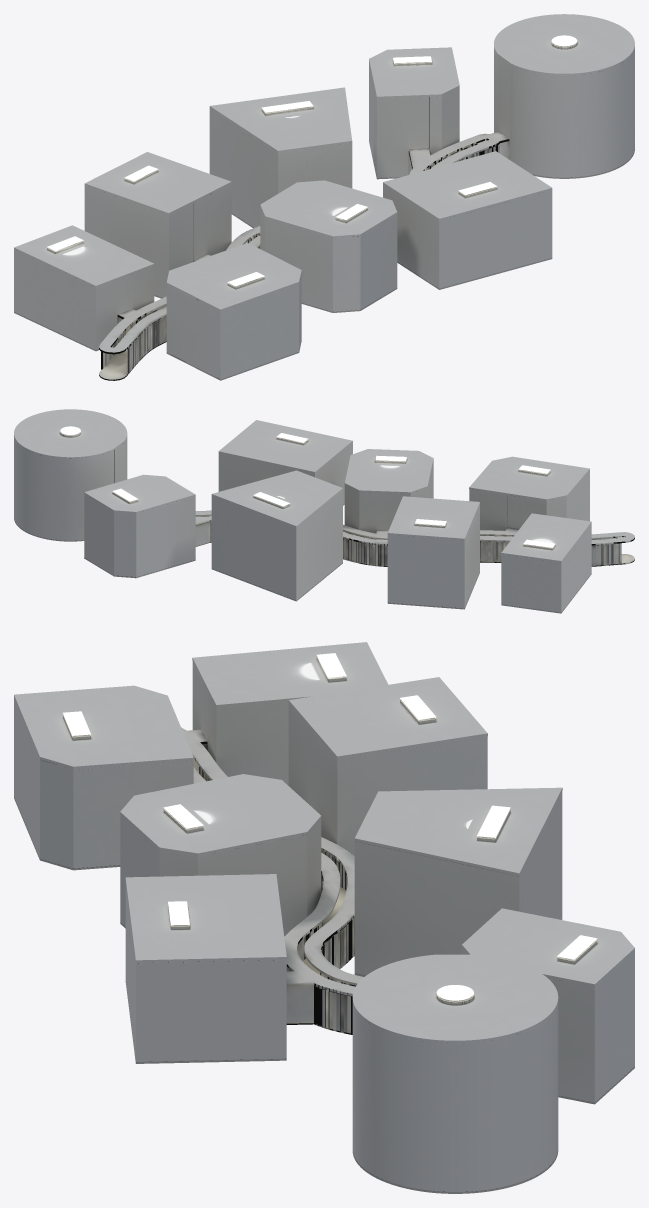
Rendered from gallery-textured.glb.
The picture shows the model from 3 angles, top to bottom: view 1: azimuth 30°, elevation 25°; view 2: azimuth 150°, elevation 25°; view 3: azimuth 270°, elevation 25°; orthographic projection. The views are drawn at different scales.
Parts seen in each view (by area): view 1: Room_08, Room_06, Room_02, Room_04, Room_05, Room_03, Room_01, Room_07, Promenade, Daylight; view 2: Room_05, Room_08, Room_07, Room_03, Room_01, Room_02, Room_06, Room_04, Promenade, Daylight; view 3: Room_08, Room_05, Room_06, Room_02, Room_03, Room_04, Room_07, Room_01, Promenade, Daylight.
Boxes of the visible parts, x1,y1,x2,y2 form: Room_08: [494, 14, 634, 178]; Room_06: [383, 151, 552, 289]; Room_02: [166, 243, 301, 380]; Room_04: [260, 180, 397, 312]; Room_05: [209, 87, 352, 228]; Room_03: [84, 152, 231, 298]; Room_01: [14, 225, 154, 351]; Room_07: [369, 47, 459, 179]; Promenade: [99, 131, 509, 380]; Daylight: [47, 35, 577, 286]; Room_05: [211, 470, 342, 601]; Room_08: [14, 409, 127, 541]; Room_07: [84, 474, 195, 578]; Room_03: [387, 496, 479, 609]; Room_01: [501, 513, 591, 613]; Room_02: [469, 456, 589, 536]; Room_06: [218, 420, 352, 505]; Room_04: [344, 449, 433, 540]; Promenade: [195, 510, 634, 566]; Daylight: [60, 426, 555, 547]; Room_08: [352, 954, 558, 1193]; Room_05: [354, 787, 562, 976]; Room_06: [125, 874, 286, 1063]; Room_02: [14, 685, 193, 870]; Room_03: [288, 677, 487, 856]; Room_04: [120, 774, 321, 936]; Room_07: [462, 908, 634, 1104]; Room_01: [192, 642, 388, 785]; Promenade: [181, 727, 363, 1034]; Daylight: [63, 653, 597, 1000].
Size of the model in its own units: 119 by 19.12 by 68.23.
10 materials, 9 textured.
